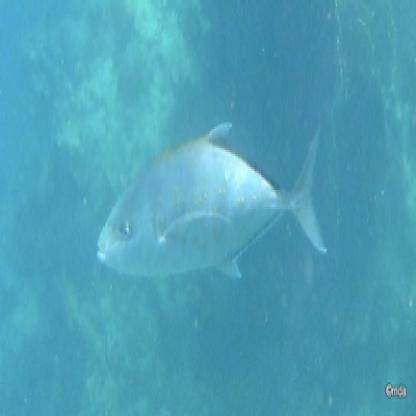Bio: (84, 118, 332, 285)
